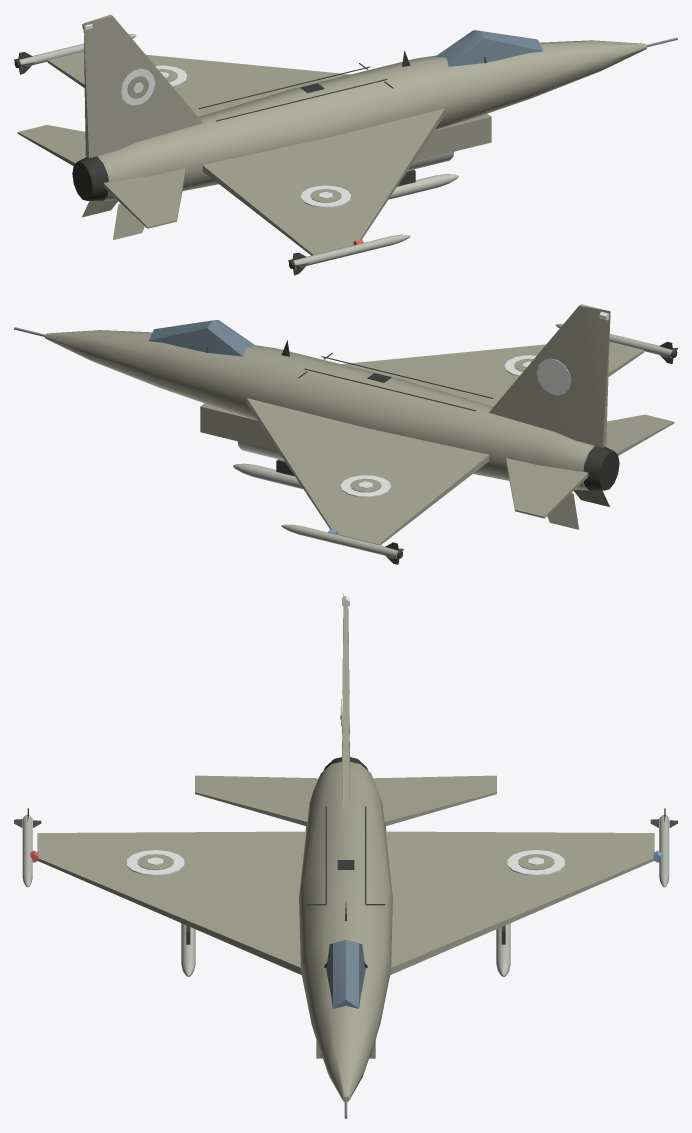
Rendered from air.glb.
The picture shows the model from 3 angles, top to bottom: view 1: azimuth 30°, elevation 25°; view 2: azimuth 150°, elevation 25°; view 3: azimuth 270°, elevation 25°; orthographic projection. The views are drawn at different scales.
Visible parts, largest first — view 1: hull; view 2: hull; view 3: hull.
Boxes of the visible parts, box(x1,y1,x2,y2) form: hull: box(14, 14, 677, 275); hull: box(14, 304, 677, 564); hull: box(14, 593, 677, 1118).
Bounding box in the file's own units: 12.15 × 4.4 × 10.12.
